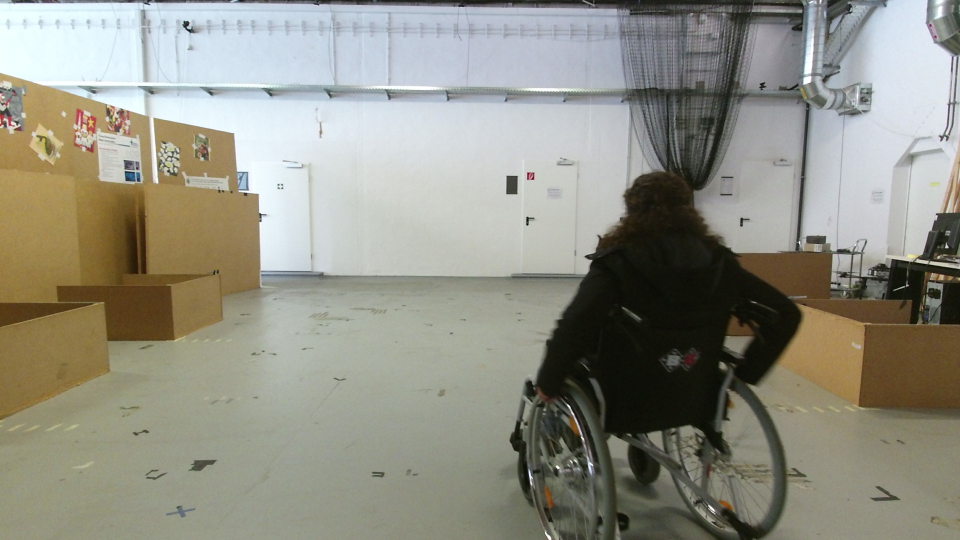wheelchair: (503, 164, 833, 540)
